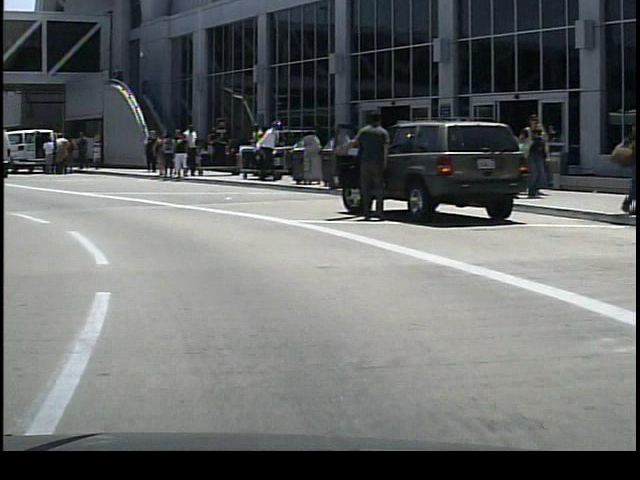person: (344, 110, 391, 226), (515, 109, 553, 207), (252, 116, 281, 184), (168, 130, 190, 180), (70, 129, 92, 176), (182, 123, 199, 180), (140, 128, 160, 173), (53, 131, 70, 178), (39, 136, 58, 177)
